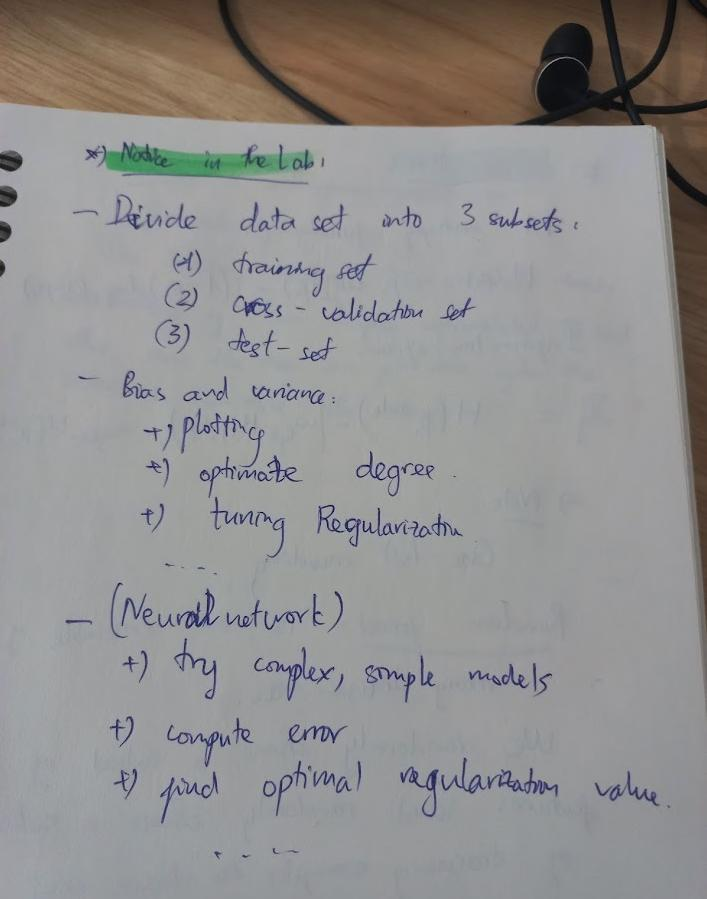text: (109, 753, 669, 831), (119, 635, 556, 706), (66, 189, 581, 238), (137, 495, 466, 562), (61, 580, 350, 645), (141, 446, 441, 501), (104, 710, 351, 770), (161, 281, 479, 326), (166, 245, 378, 300), (75, 368, 339, 411), (80, 138, 327, 176), (151, 318, 339, 366), (145, 406, 268, 470)
